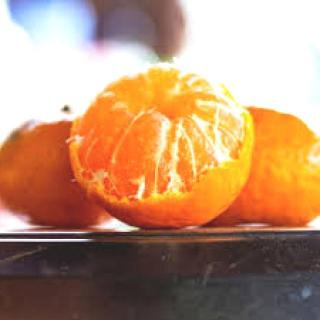orange: (72, 57, 254, 237), (144, 87, 311, 269)
